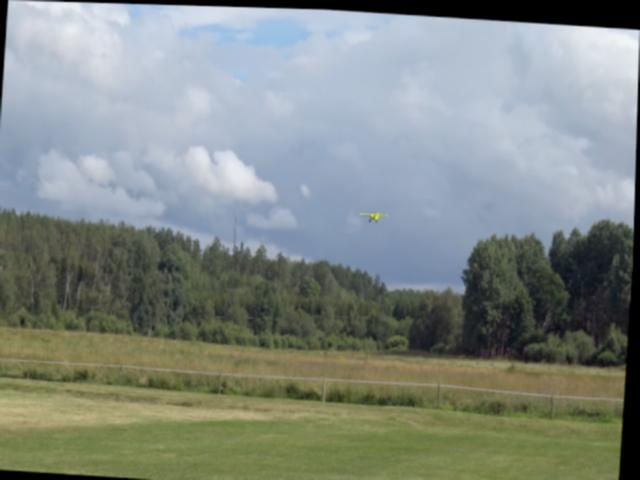plane: (360, 207, 390, 222)
